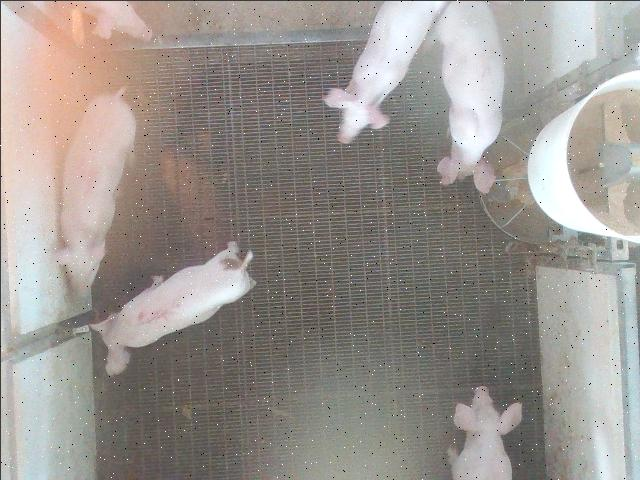pig-4: (55, 88, 135, 294)
pig-5: (90, 242, 254, 374)
